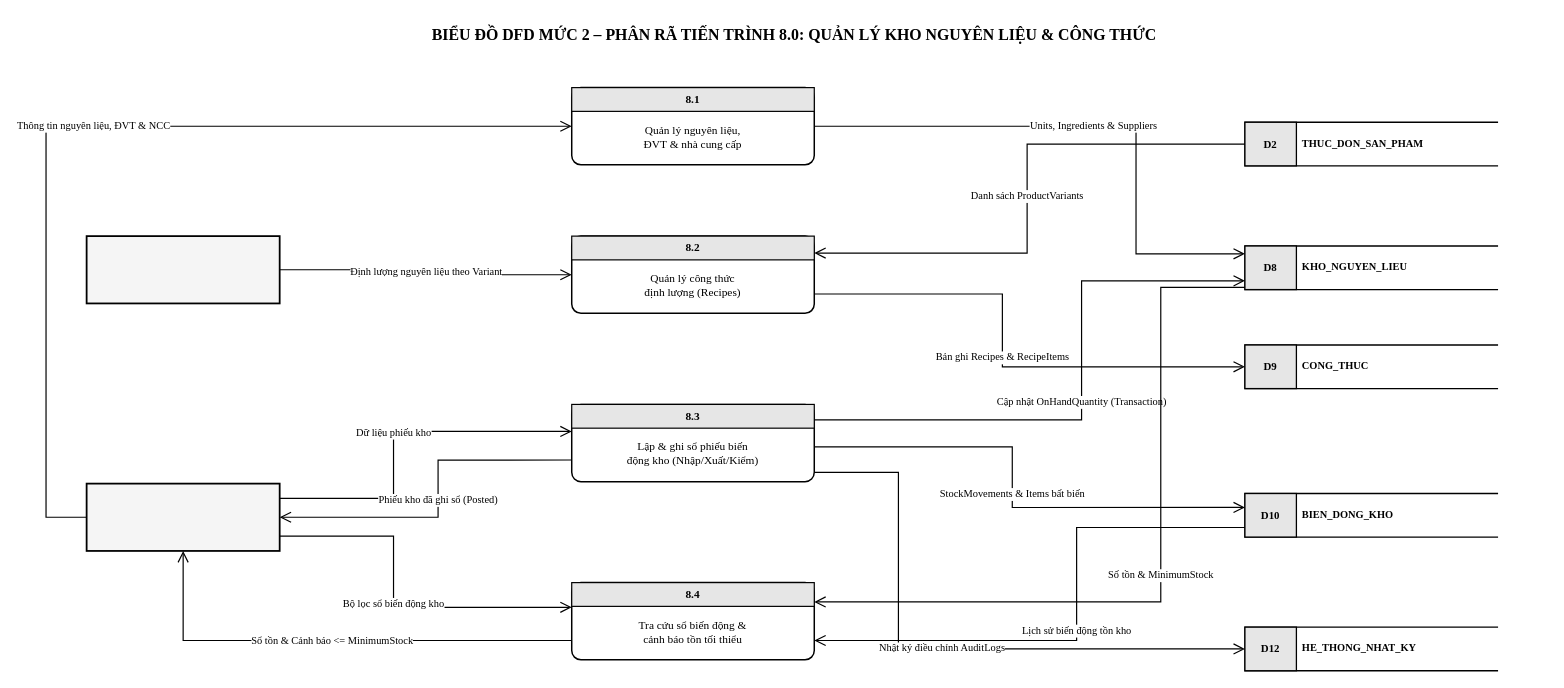
The diagram is 1564 pixels wide and 688 high, and some of its shapes have lost their labels. The centre of each missing label's shape, as x and y in pixels:
Chủ quán (ADMIN) / Quản lý (MANAGER): (x=182, y=269)
Nhân viên kho (INVENTORY_STAFF): (x=182, y=516)
